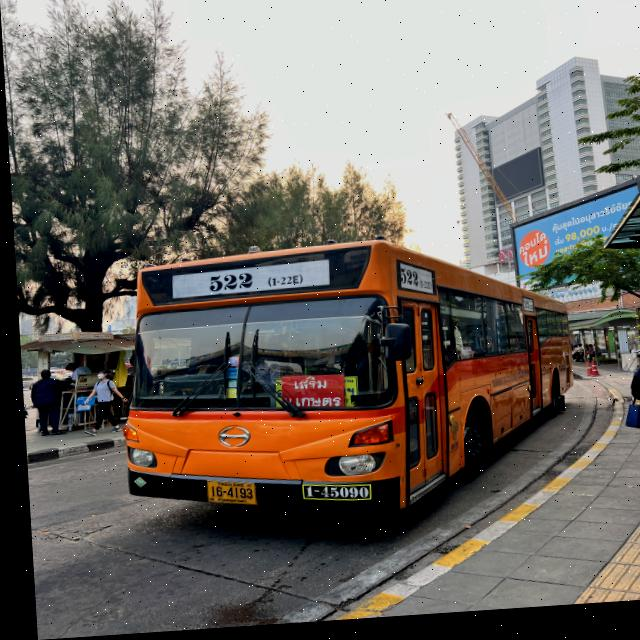BMTA-bus: (107, 236, 575, 535)
Bus-Line-Number: (189, 265, 304, 299)
Destination-Sign-Extra-Bus: (276, 378, 339, 415)
